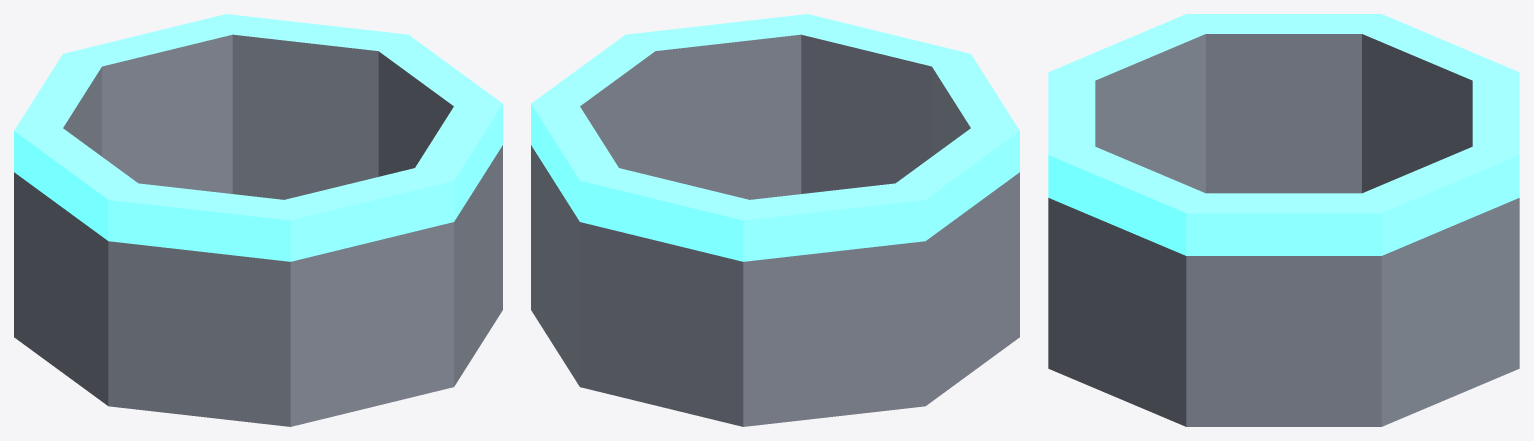
Rendered from rocket_fuelA.glb.
3 renders of one model, left to right at view 1: azimuth 30°, elevation 25°; view 2: azimuth 150°, elevation 25°; view 3: azimuth 270°, elevation 25°, orthographic. The views are drawn at different scales.
Parts seen in each view (by area): view 1: rocket_fuelA; view 2: rocket_fuelA; view 3: rocket_fuelA.
Part boxes in pixels (x1,y1,x2,y2): rocket_fuelA: [14, 14, 502, 426]; rocket_fuelA: [531, 14, 1019, 426]; rocket_fuelA: [1048, 14, 1519, 426].
Size of the model in its own units: 1 by 0.5 by 1.
